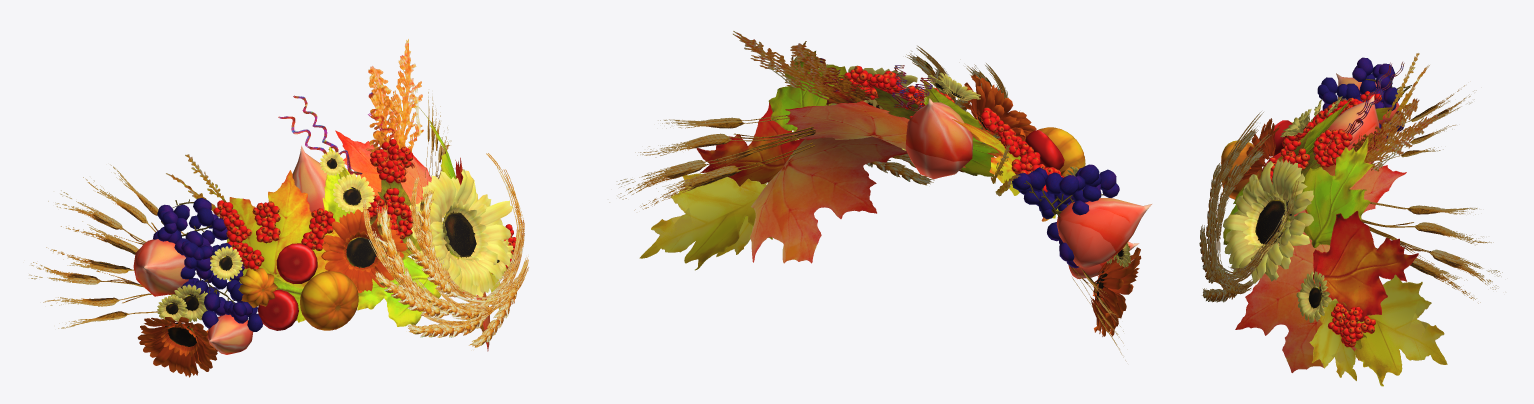
File: Thanksgiving_circlet.fbx
3 renders of one model, left to right at view 1: azimuth 30°, elevation 25°; view 2: azimuth 150°, elevation 25°; view 3: azimuth 270°, elevation 25°, orthographic. The views are drawn at different scales.
Parts seen in each view (by area): view 1: spike_01, Big_flower, grape_01, Leaf_06, Big_flower2, spike_03, Big_flower3, Pumpkin, Physalis2, Rowan_04, spike_07, Leaf_012 (+20 smaller); view 2: Leaf_09, Leaf_05, spike_02, Physalis2, Physalis3, grape_01, Leaf_012, spike_03, Leaf_04, Big_flower3, spike_01, Big_flower2 (+14 smaller); view 3: Big_flower, Leaf_04, Leaf_05, Leaf_09, spike_01, Leaf_011, spike_02, grape_01, spike_03, Leaf_08, Physalis3, Rowan_03 (+16 smaller).
Boxes of the visible parts, left/top/right/bottom form: spike_01: left=363, top=153, right=528, bottom=347; Big_flower: left=409, top=169, right=512, bottom=297; grape_01: left=153, top=198, right=262, bottom=331; Leaf_06: left=210, top=170, right=340, bottom=288; Big_flower2: left=321, top=209, right=407, bottom=293; spike_03: left=365, top=39, right=423, bottom=176; Big_flower3: left=137, top=317, right=217, bottom=377; Pumpkin: left=300, top=271, right=358, bottom=330; Physalis2: left=133, top=239, right=188, bottom=296; Rowan_04: left=213, top=200, right=335, bottom=270; spike_07: left=29, top=247, right=175, bottom=328; Leaf_012: left=335, top=130, right=431, bottom=204; Leaf_09: left=750, top=136, right=907, bottom=263; Leaf_05: left=639, top=173, right=764, bottom=270; spike_02: left=609, top=115, right=815, bottom=210; Physalis2: left=1056, top=198, right=1151, bottom=268; Physalis3: left=905, top=98, right=972, bottom=179; grape_01: left=1012, top=164, right=1119, bottom=268; Leaf_012: left=769, top=101, right=965, bottom=167; spike_03: left=733, top=31, right=871, bottom=105; Leaf_04: left=696, top=102, right=804, bottom=186; Big_flower3: left=1091, top=246, right=1141, bottom=336; spike_01: left=791, top=41, right=1019, bottom=185; Big_flower2: left=963, top=74, right=1036, bottom=141; Big_flower: left=1223, top=159, right=1313, bottom=283; Leaf_04: left=1310, top=211, right=1420, bottom=322; Leaf_05: left=1332, top=274, right=1447, bottom=386; Leaf_09: left=1235, top=210, right=1359, bottom=372; spike_01: left=1199, top=111, right=1298, bottom=302; Leaf_011: left=1301, top=137, right=1373, bottom=247; spike_02: left=1361, top=202, right=1502, bottom=303; grape_01: left=1314, top=57, right=1404, bottom=154; spike_03: left=1351, top=98, right=1440, bottom=171; Leaf_08: left=1309, top=300, right=1366, bottom=380; Physalis3: left=1327, top=95, right=1379, bottom=163; Rowan_03: left=1328, top=303, right=1375, bottom=347.
Size of the model in its own units: 269 by 165 by 173.
